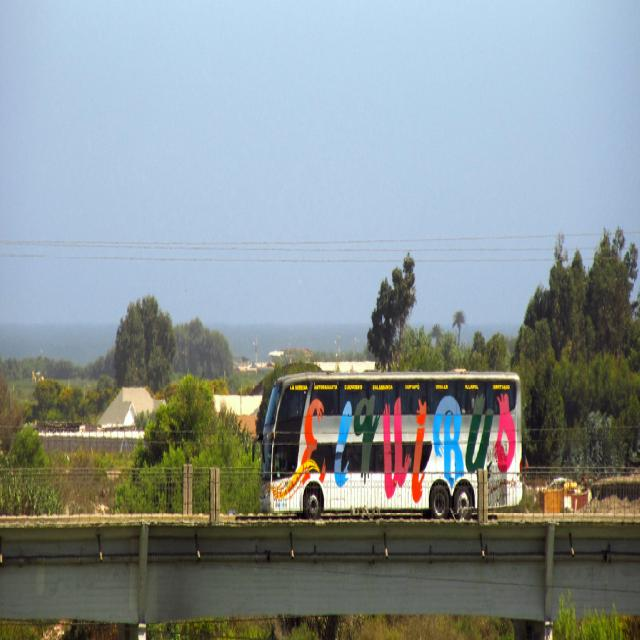Buses: (261, 366, 524, 520)
